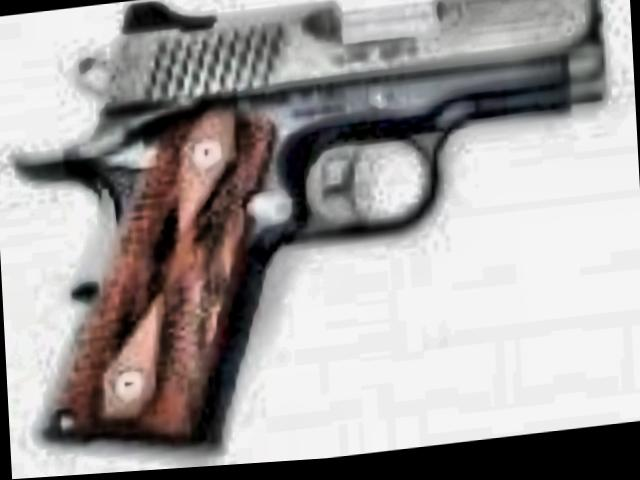pistol: (0, 0, 618, 468)
